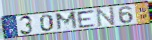0: (39, 14, 55, 33)
3: (18, 15, 37, 35)
6: (117, 6, 134, 25)
E: (76, 9, 98, 29)
M: (55, 11, 80, 32)
N: (96, 6, 116, 28)
